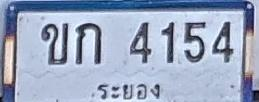1: (161, 21, 174, 63)
4: (130, 21, 151, 63), (212, 21, 233, 62)
5: (184, 21, 206, 62)
A01: (76, 22, 102, 64)
A02: (40, 22, 68, 64)
RYG: (94, 79, 162, 102)
